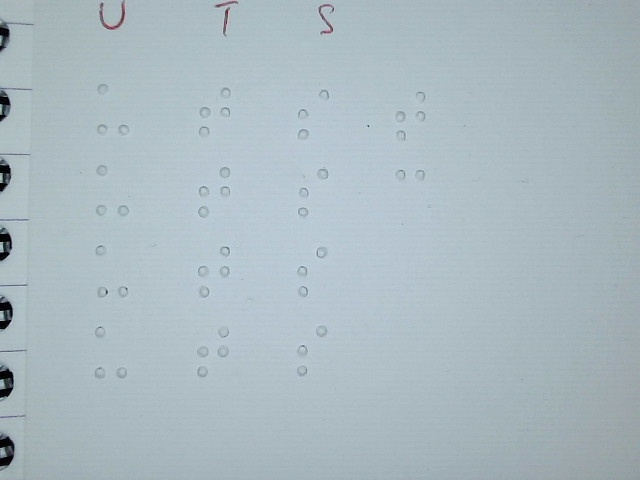S: (296, 86, 331, 141), (295, 164, 330, 219), (294, 243, 329, 298), (294, 322, 329, 377)
T: (197, 84, 232, 139), (197, 164, 232, 219), (197, 243, 232, 298), (195, 323, 230, 378)
U: (96, 81, 131, 136), (95, 162, 130, 217), (94, 244, 129, 299), (93, 324, 128, 379)
